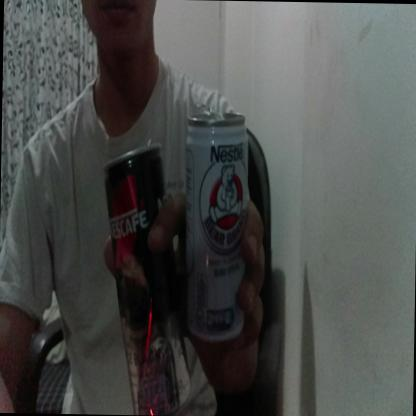alumunium_can: (99, 137, 197, 416), (180, 106, 252, 339)
